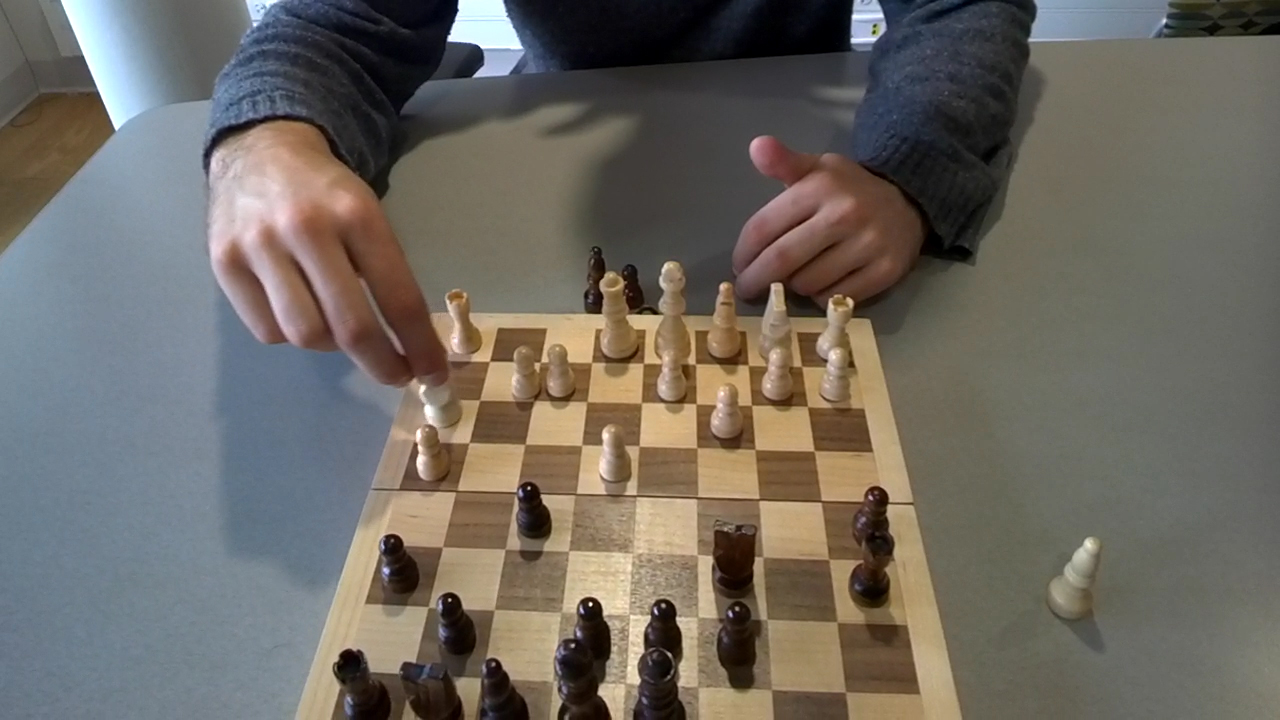hand: (198, 134, 441, 386), (728, 135, 919, 305)
